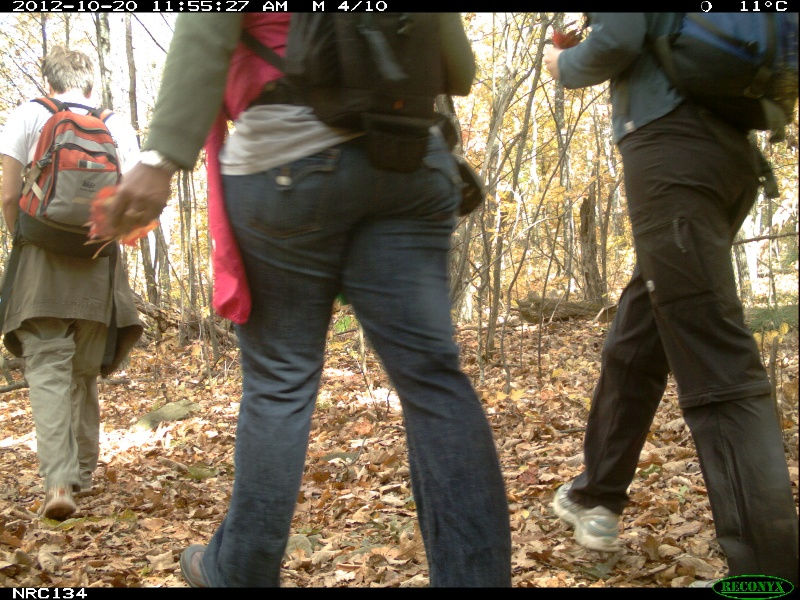human legs: (198, 136, 522, 594), (553, 131, 800, 575), (8, 263, 119, 518)
